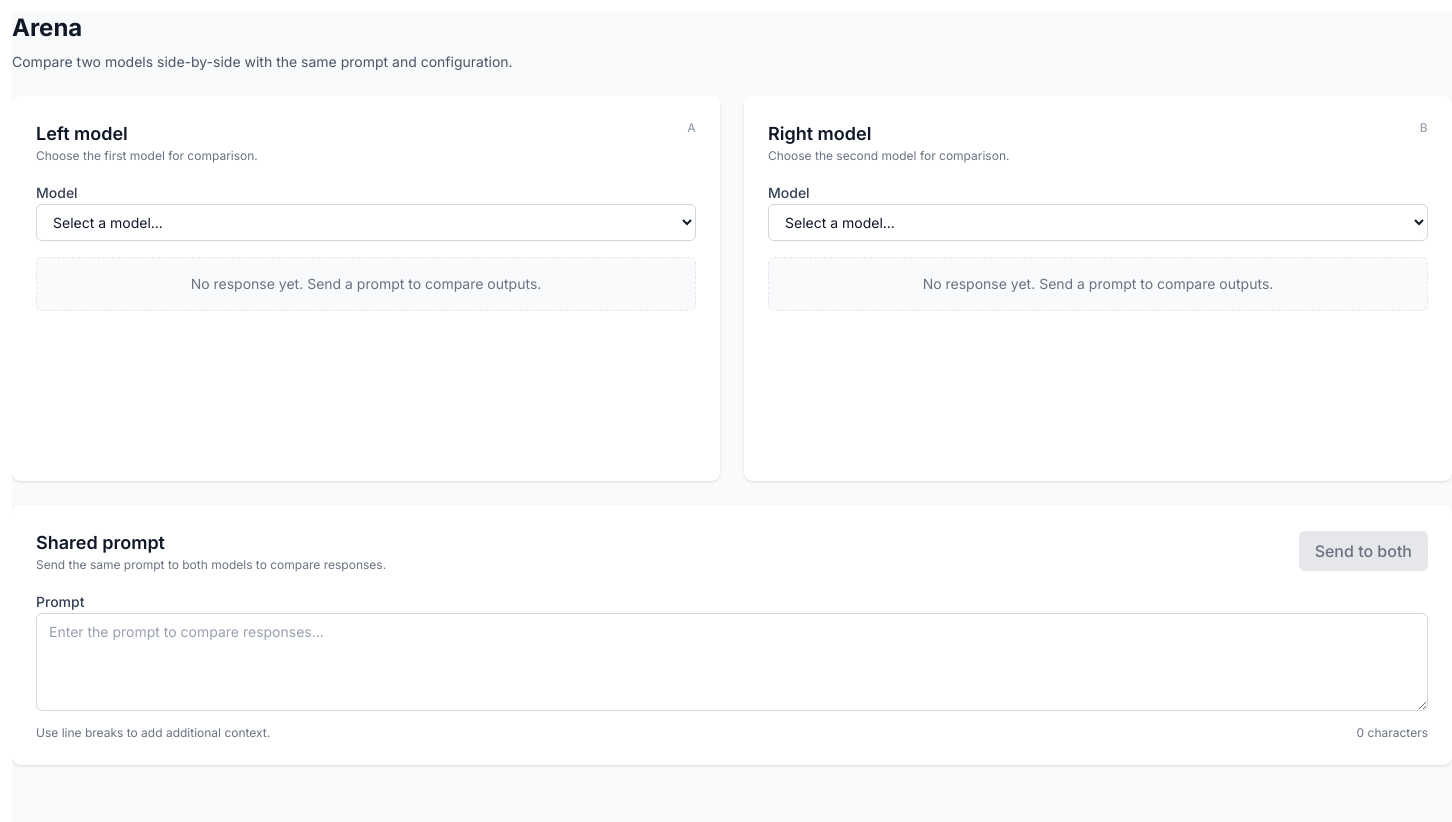
Test: ArenaPage › shows a warning when models are missing
In the text box with test id "arena-prompt-input": (732, 662) [36,613,1428,711], type "Needs models."
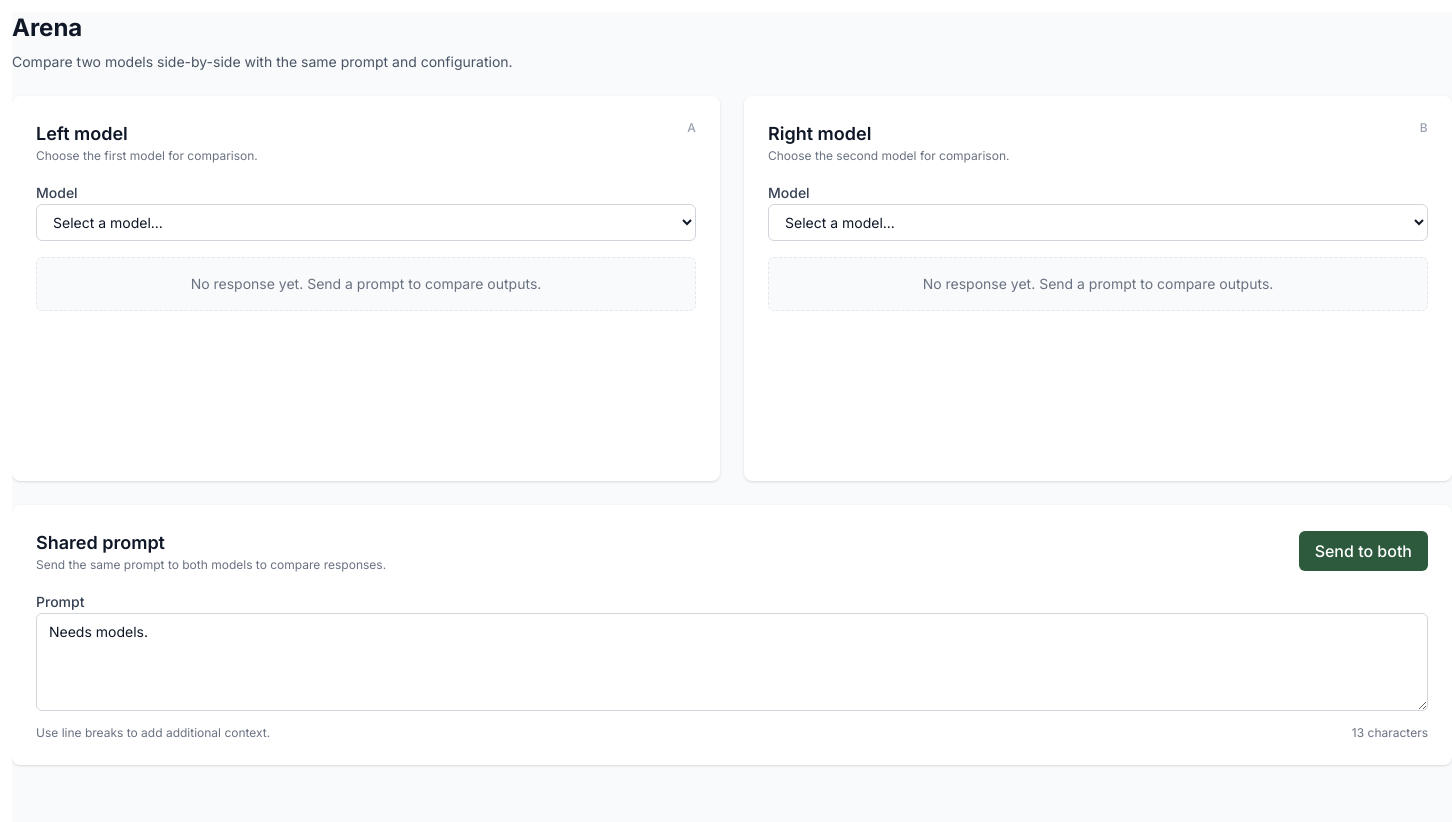
Click the button with test id "arena-send-button": (1363, 551) [1299,531,1428,571]
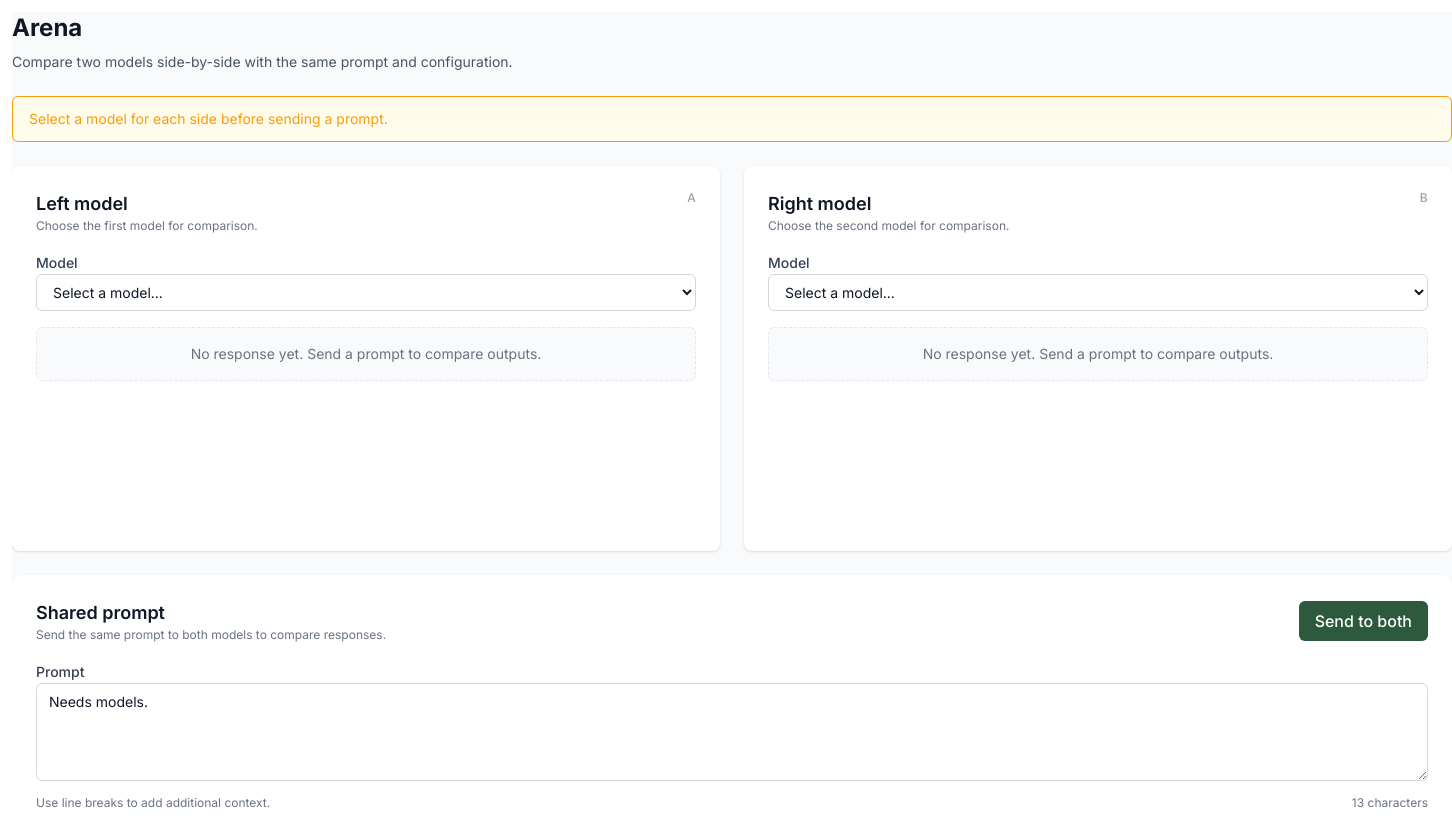
Result: the text with test id "arena-form-error" reads "Select a model for each side before sending a prompt." at [29,110,388,127]
